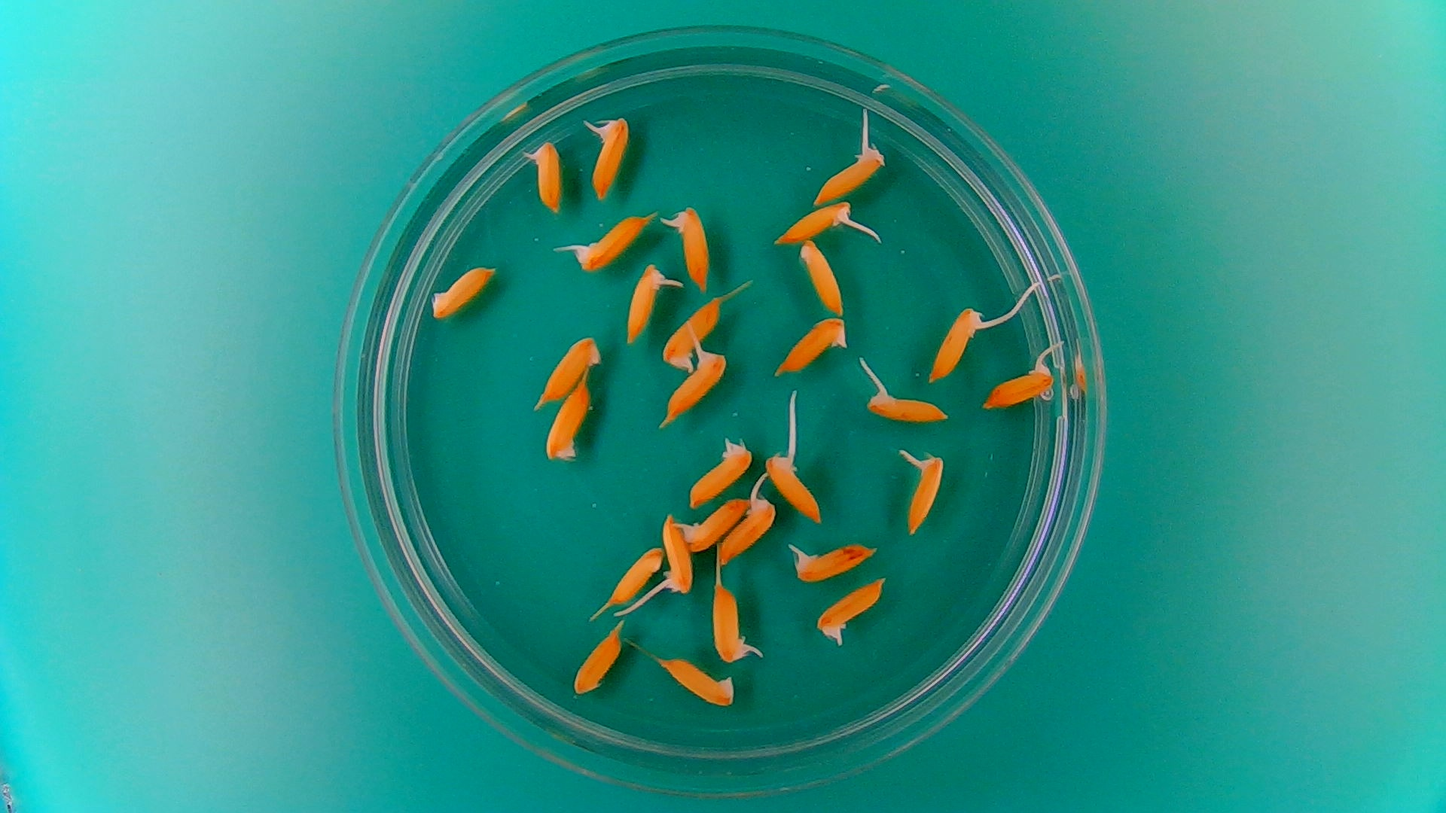no: (532, 330, 606, 406), (771, 314, 851, 378), (541, 375, 595, 467), (796, 236, 848, 318), (426, 263, 495, 322), (660, 658, 738, 710), (570, 625, 622, 696), (604, 544, 659, 607)
yes: (658, 343, 731, 425), (657, 295, 725, 370), (576, 207, 653, 273), (809, 146, 886, 209), (716, 493, 776, 564), (773, 197, 861, 245), (929, 305, 984, 379), (759, 456, 823, 518), (689, 440, 751, 504), (818, 582, 889, 637), (679, 494, 748, 550), (983, 360, 1054, 411), (673, 206, 714, 289), (590, 115, 630, 199), (792, 542, 872, 582), (627, 265, 667, 343), (907, 453, 945, 532), (710, 583, 746, 665), (660, 513, 694, 597), (867, 391, 944, 422), (535, 136, 563, 212)
